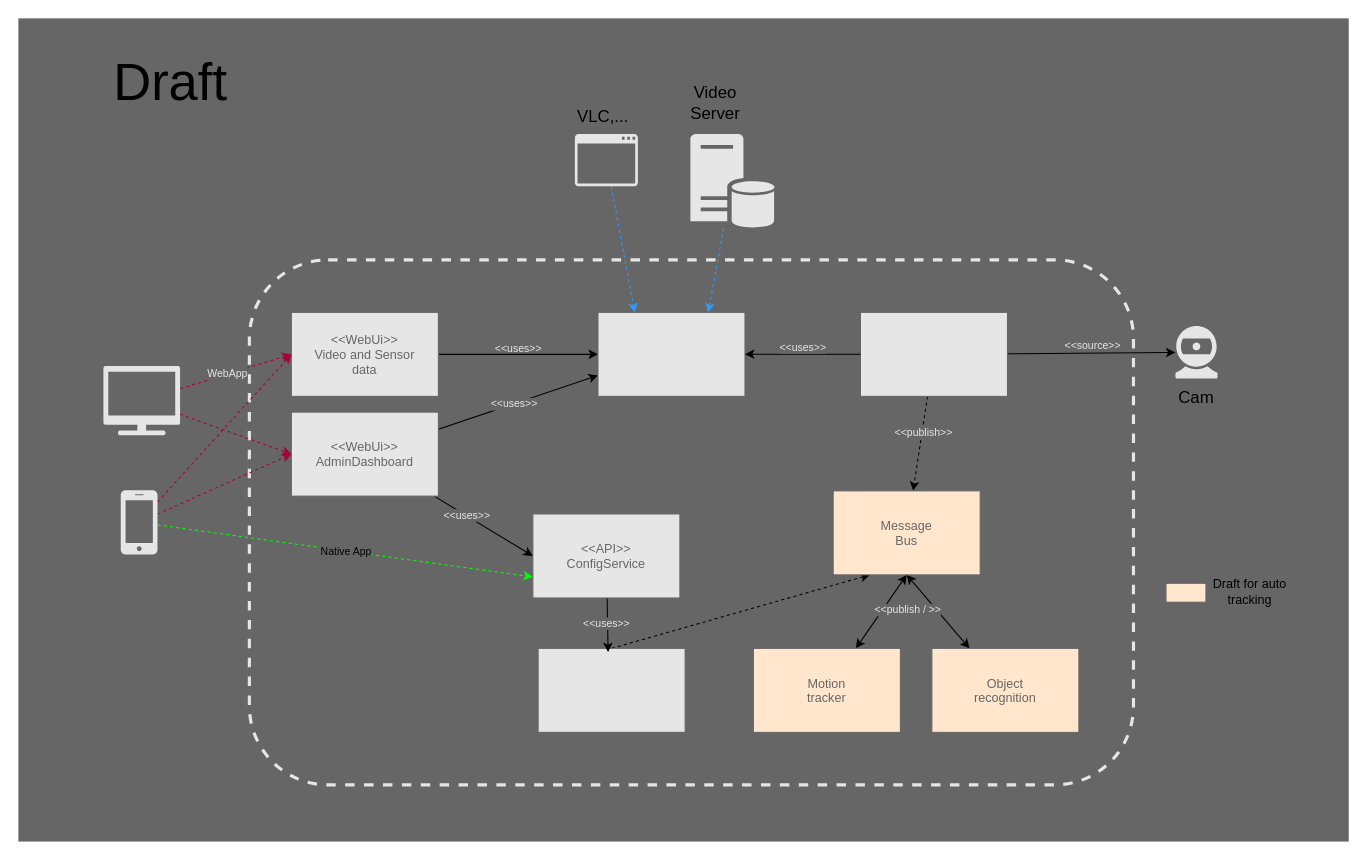
Image size: 1366x859. Some labels were removed from this diagram. Here are the shapes that lost their labels. From the top down, the centre of each, then its label:
At [671,353]: "RTSP Streamer".
At [933,353]: "Frame grabber (gstreamer pipeline?)".
At [611,689]: "Pan/Tilt Driver".
